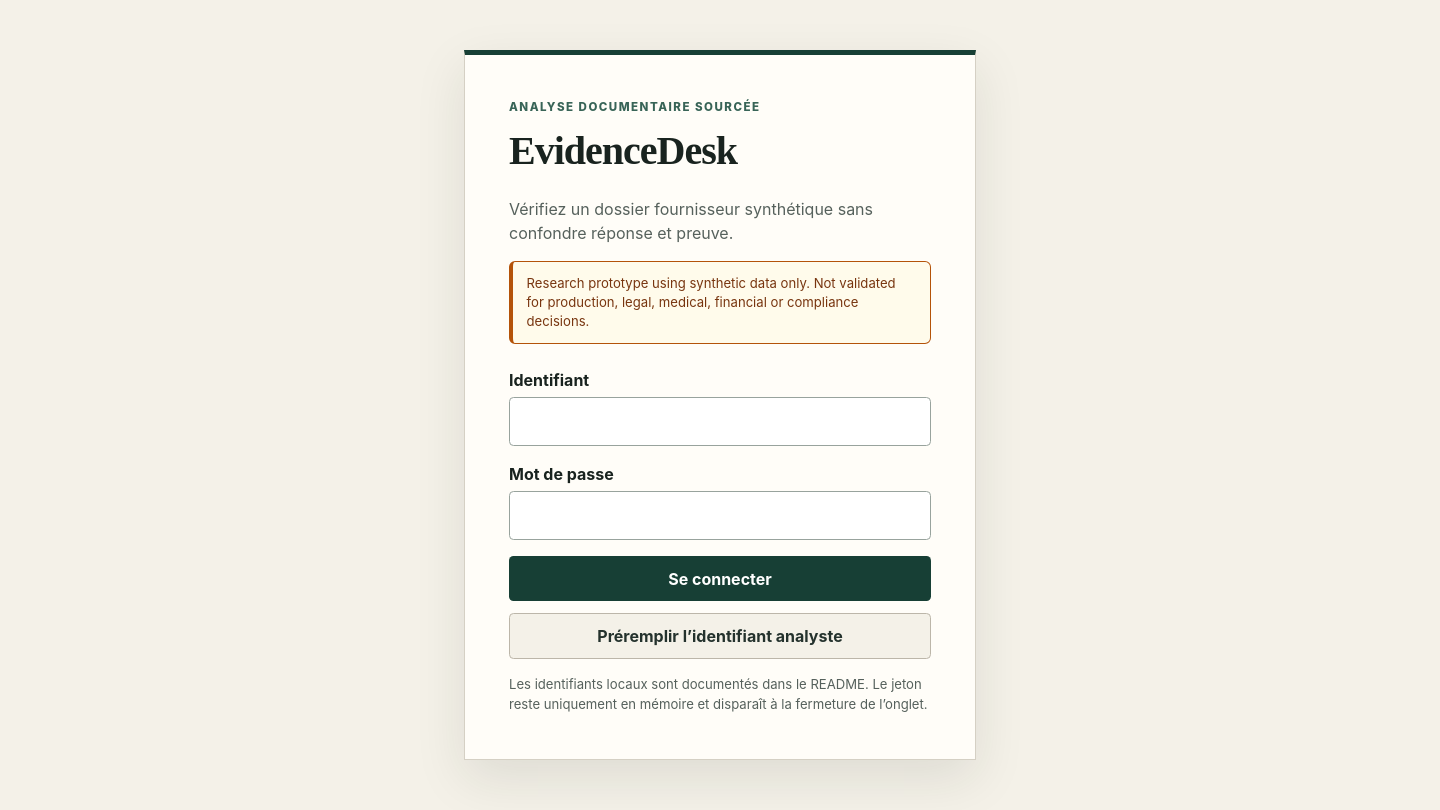
EvidenceDesk REST flow › renders the administrator audit and operational state from REST
The image size is (1440, 810).
In the field labelled "Identifiant": (720, 422) [509,397,931,446], type "demo.admin"
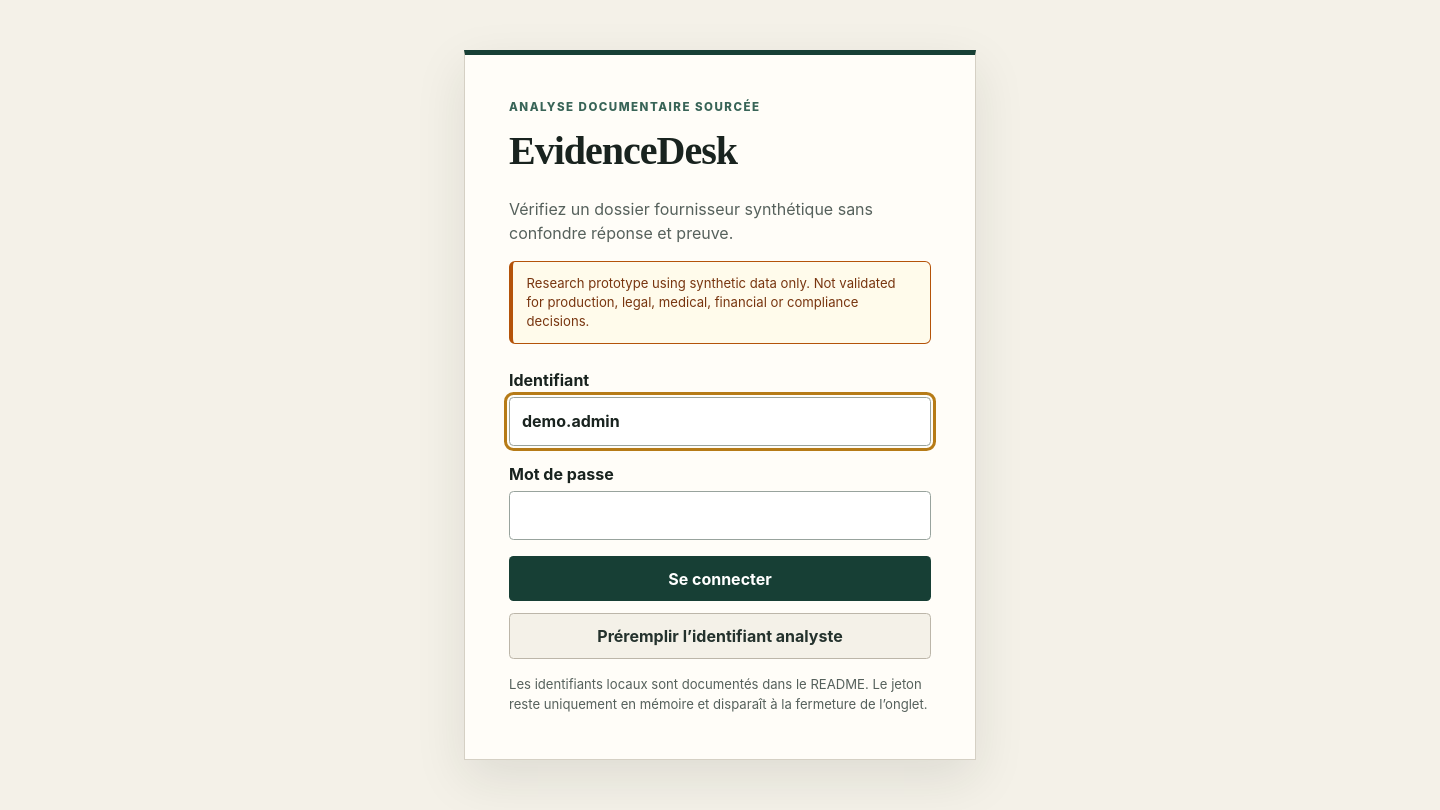
In the password field labelled "Mot de passe": (720, 516) [509,491,931,540], type "x"
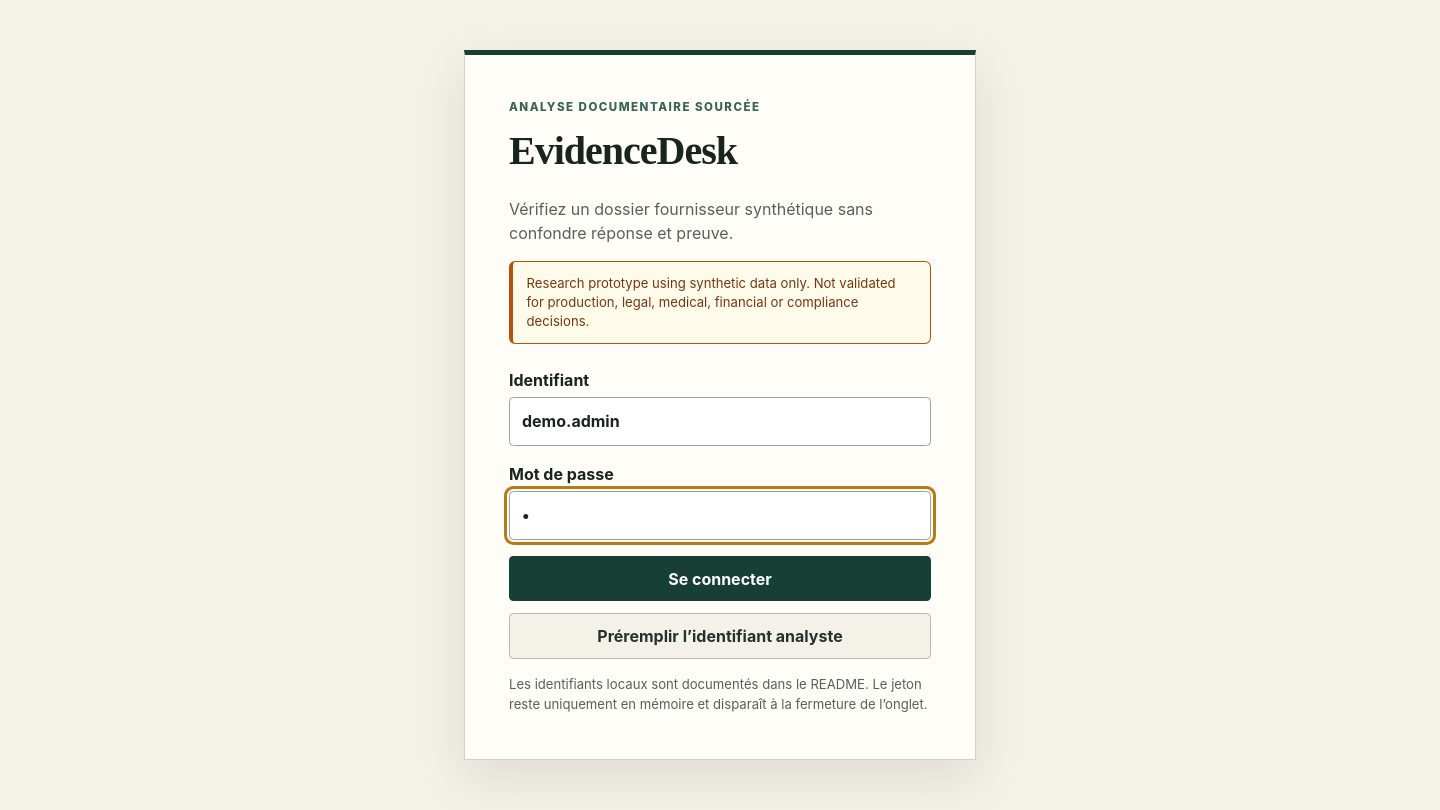
Click the button "Se connecter": (720, 578) [509,556,931,601]
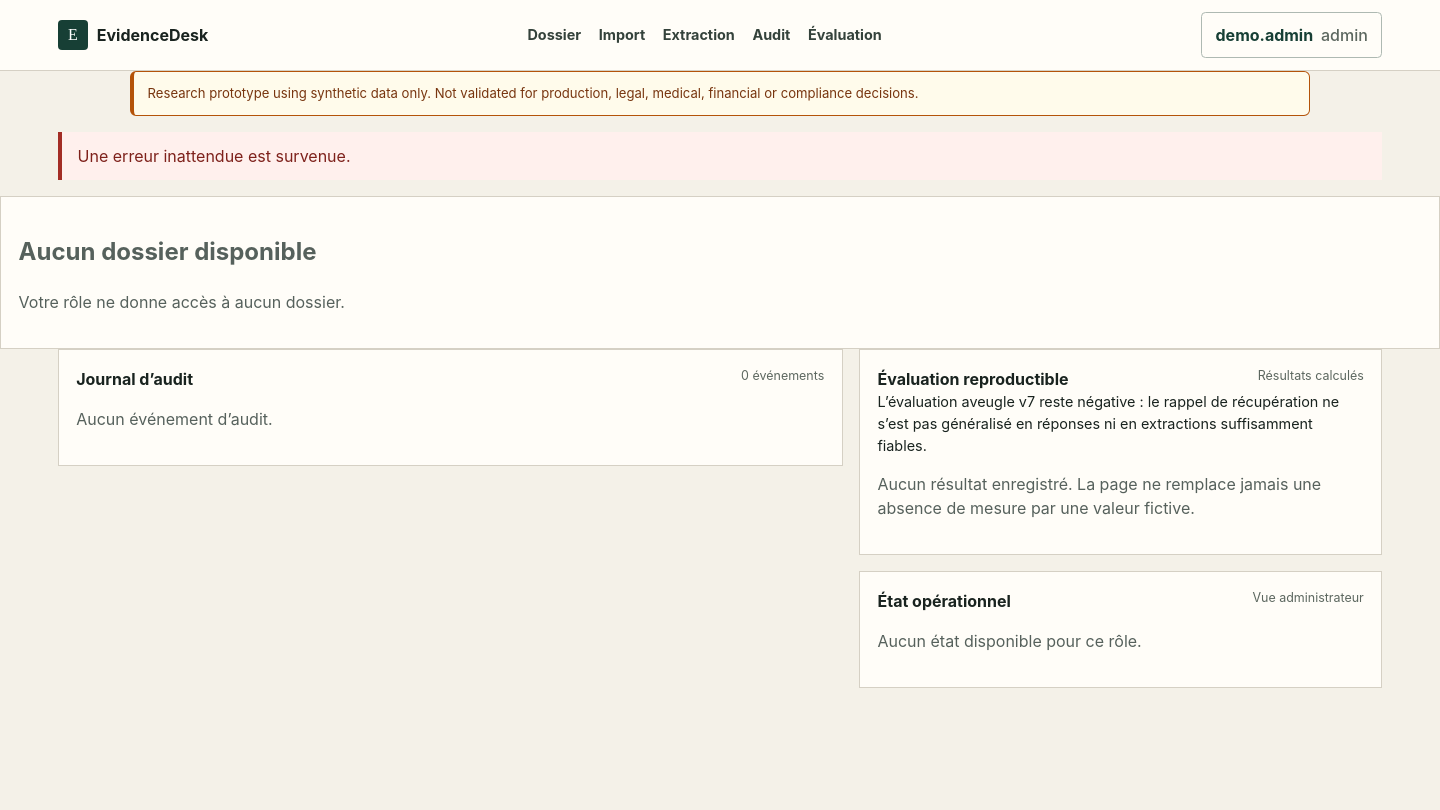
Now the heading "État opérationnel" is shown, box [878,590,1011,614]
